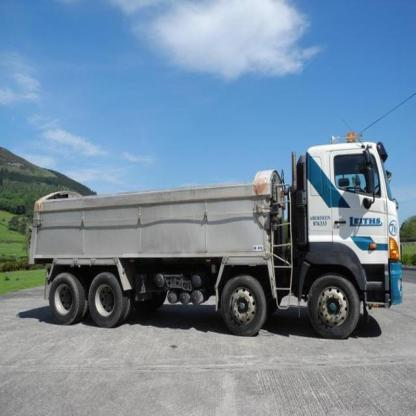dump_truck: (23, 129, 416, 349)
